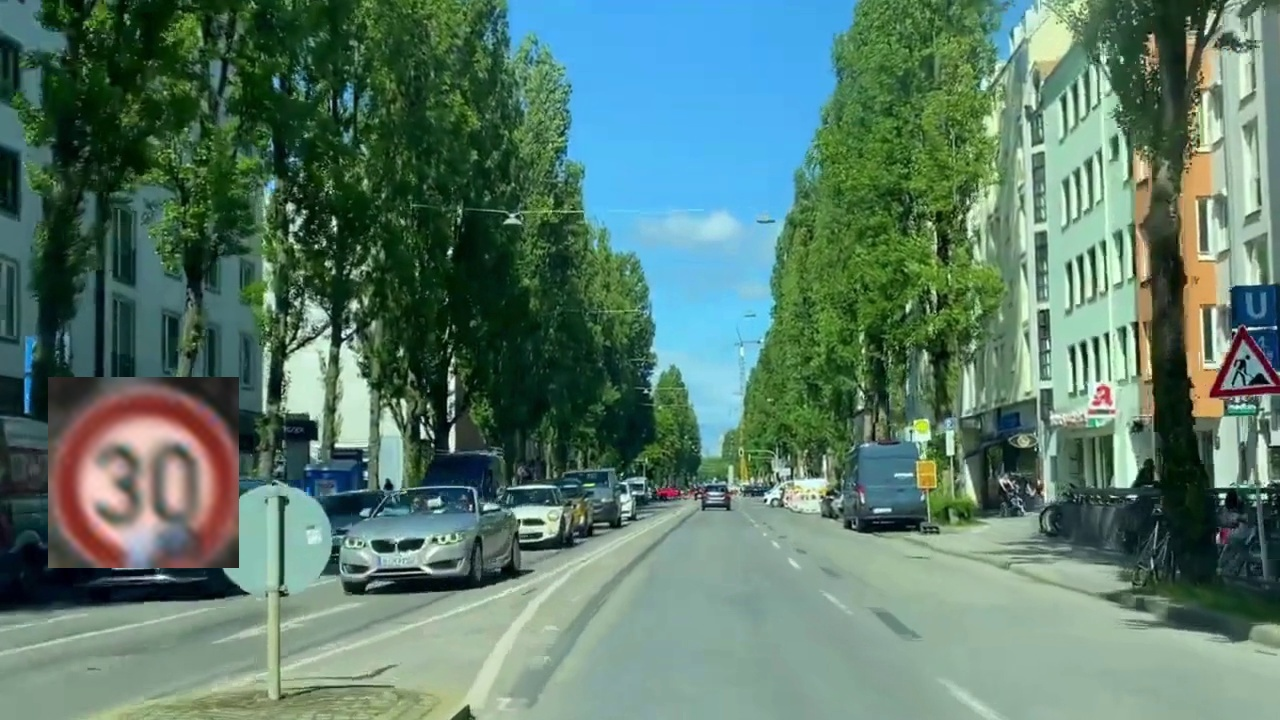Speed 30: (48, 377, 239, 568)
